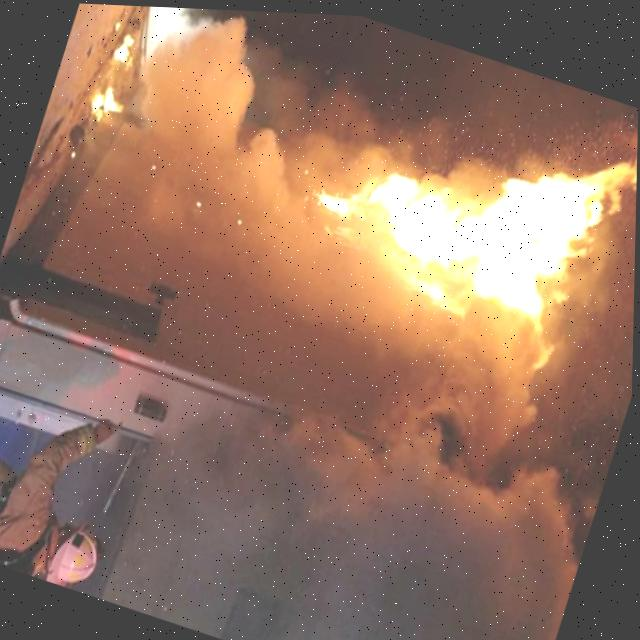Fire: (285, 35, 640, 378), (87, 81, 129, 128), (112, 31, 139, 66)
Smoke: (138, 263, 634, 640), (49, 2, 372, 371)
